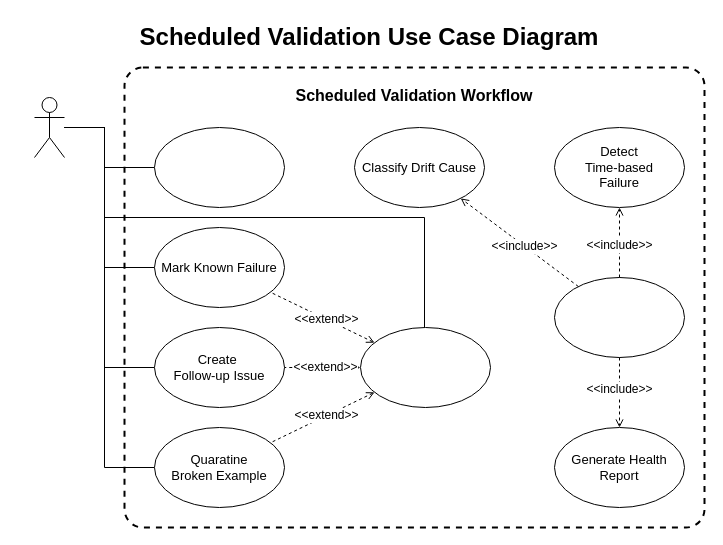
Some shapes in this 723 by 545 pixel diagram are drawn without their labels. Each missing label, with the centre of its shape:
"Maintainer" belongs at (x=49, y=127).
"Review Scheduled Health Status" belongs at (x=219, y=167).
"Run Scheduled Validation" belongs at (x=619, y=317).
"Triage Time-based Failure" belongs at (x=425, y=367).
